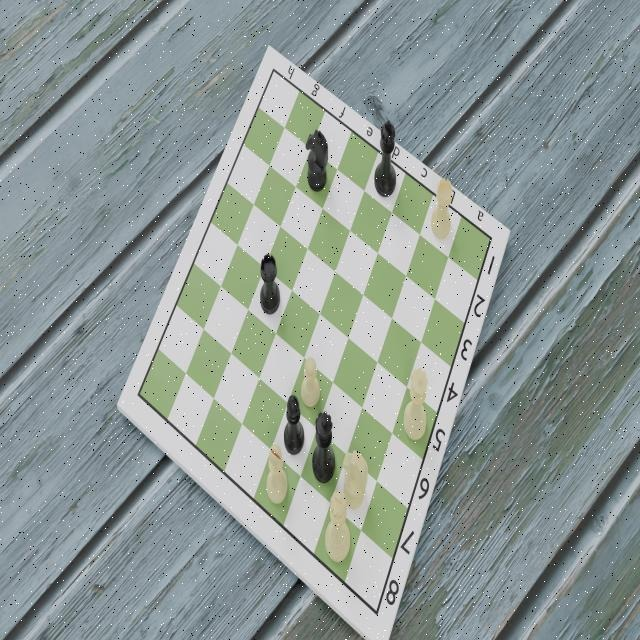black-bishop: (282, 395, 306, 456)
black-king: (372, 120, 399, 200)
black-knight: (304, 129, 331, 196)
black-queen: (309, 410, 336, 485)
black-rook: (259, 250, 283, 314)
white-bishop: (266, 441, 290, 507)
white-king: (324, 491, 352, 569)
white-knight: (340, 448, 368, 510)
white-pawn: (298, 350, 322, 413)
white-queen: (402, 364, 430, 448)
white-rook: (430, 175, 454, 245)
